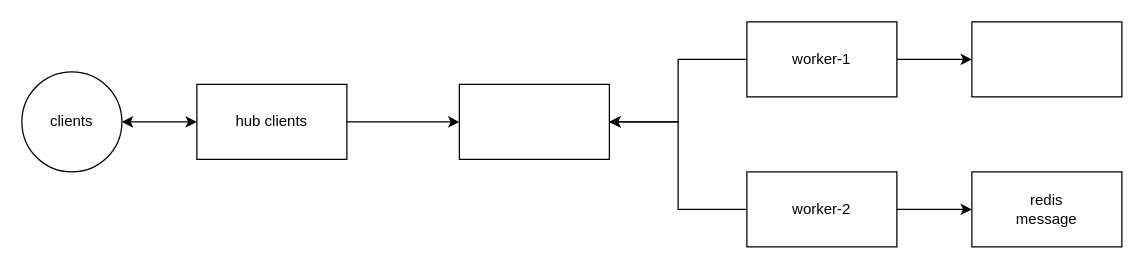
The diagram is 1144 pixels wide and 269 high, and some of its shapes have lost their labels. Here are the shapes that lost their labels. From the top down, the centre of each, then its label:
At pixel 1046 59: "redis lastread".
At pixel 533 121: "chan message".
